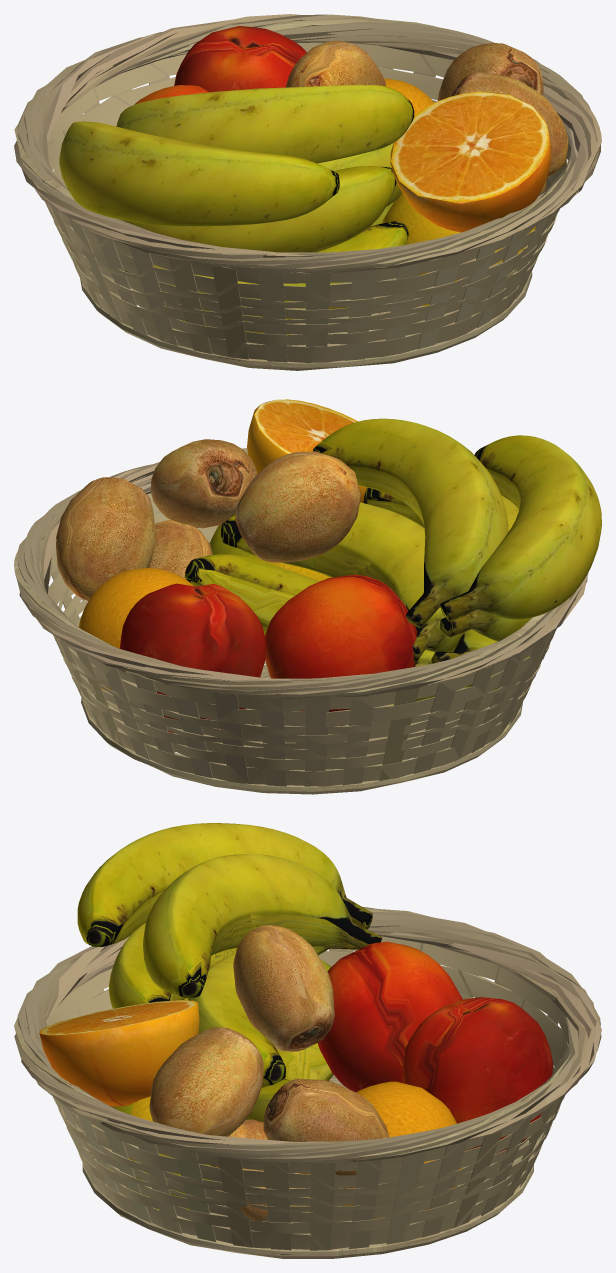
The picture shows the model from 3 angles, top to bottom: view 1: azimuth 30°, elevation 25°; view 2: azimuth 150°, elevation 25°; view 3: azimuth 270°, elevation 25°; orthographic projection. The views are drawn at different scales.
Bounding box in the file's own units: 0.3578 × 0.169 × 0.3561.
7 materials, 7 textured.
